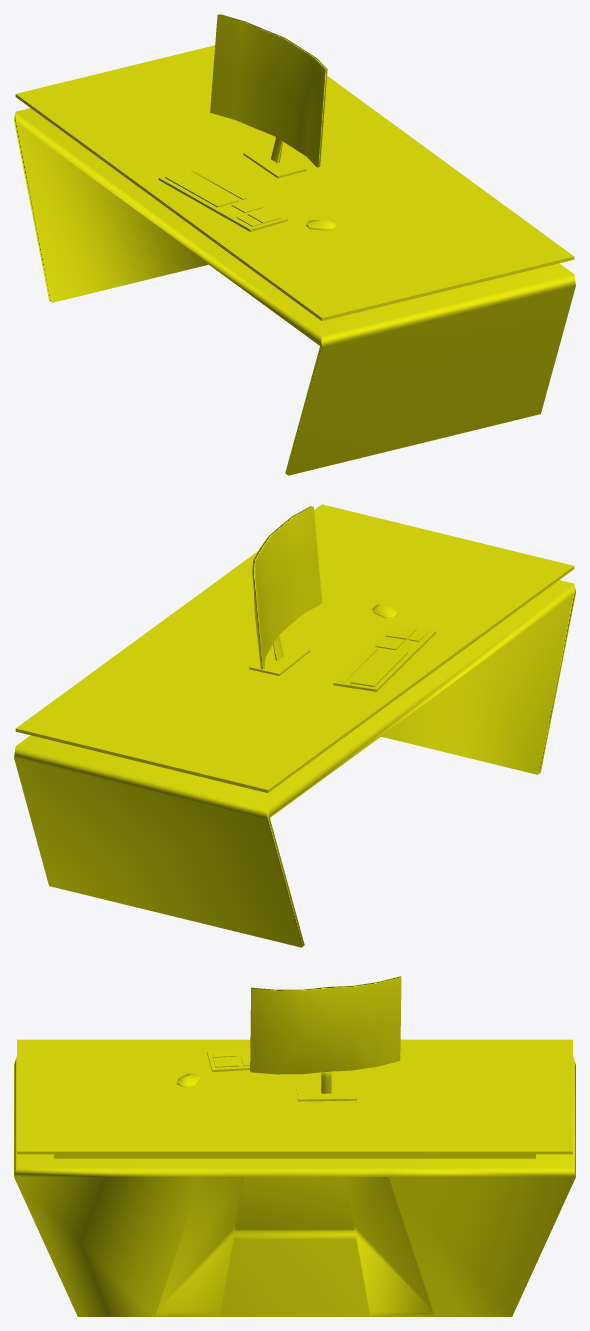
The model's file is ESCRITORIO CORPORATIVO.fbx.
3 views of the same model, one above another, from view 1: azimuth 30°, elevation 25°; view 2: azimuth 150°, elevation 25°; view 3: azimuth 270°, elevation 25° (orthographic). The views are drawn at different scales.
Visible parts, largest first — view 1: ESCRITORIO_CORPORATIVO; view 2: ESCRITORIO_CORPORATIVO; view 3: ESCRITORIO_CORPORATIVO.
Boxes of the visible parts, x1,y1,x2,y2 form: ESCRITORIO_CORPORATIVO: (14, 14, 575, 475); ESCRITORIO_CORPORATIVO: (14, 504, 575, 947); ESCRITORIO_CORPORATIVO: (14, 976, 575, 1316).
Bounding box in the file's own units: 2.01 × 2.31 × 4.26.
